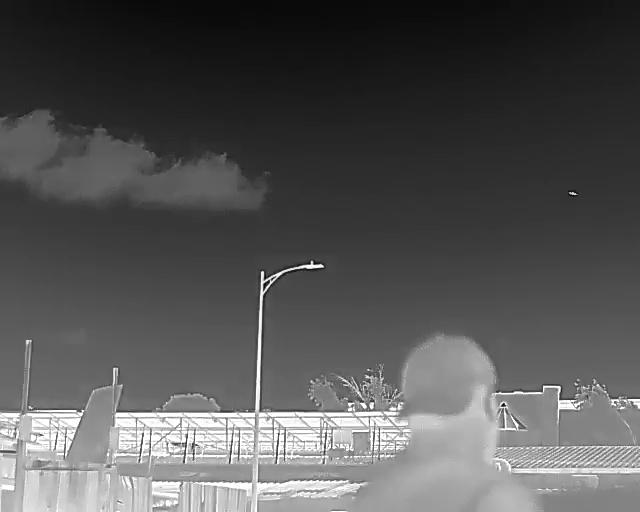fpv-drone: (567, 190, 578, 196)
